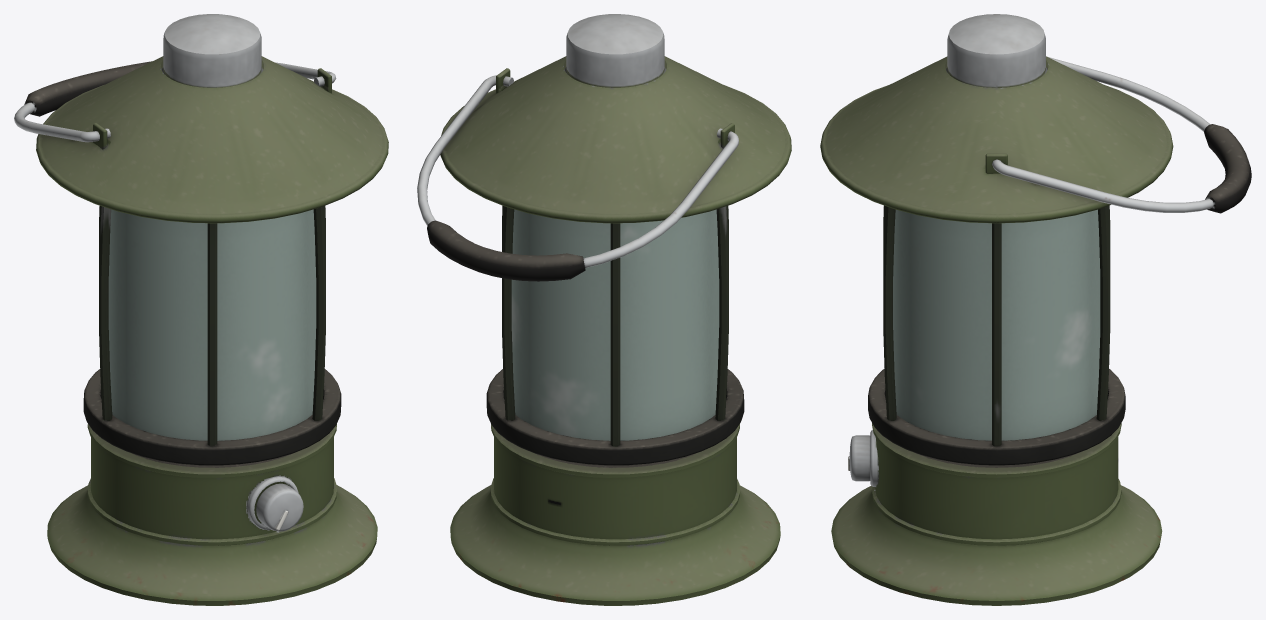
File: CampLantern.fbx
The picture shows the model from 3 angles, left to right: view 1: azimuth 30°, elevation 25°; view 2: azimuth 150°, elevation 25°; view 3: azimuth 270°, elevation 25°; orthographic projection.
Parts seen in each view (by area): view 1: CampLantern_Body, CampLantern_Globe, CampLantern_Bail, CampLantern_Knob; view 2: CampLantern_Body, CampLantern_Globe, CampLantern_Bail; view 3: CampLantern_Body, CampLantern_Globe, CampLantern_Bail, CampLantern_Knob.
Part boxes in pixels (left/top/right/bottom): CampLantern_Body: left=36, top=14, right=388, bottom=605; CampLantern_Globe: left=108, top=209, right=316, bottom=440; CampLantern_Bail: left=14, top=61, right=336, bottom=142; CampLantern_Knob: left=256, top=483, right=303, bottom=531; CampLantern_Body: left=440, top=14, right=791, bottom=605; CampLantern_Globe: left=511, top=209, right=719, bottom=440; CampLantern_Bail: left=417, top=75, right=738, bottom=281; CampLantern_Body: left=820, top=14, right=1173, bottom=605; CampLantern_Globe: left=893, top=209, right=1100, bottom=440; CampLantern_Bail: left=992, top=57, right=1251, bottom=213; CampLantern_Knob: left=848, top=435, right=870, bottom=481.
Size of the model in its own units: 0.444 by 0.714 by 0.5426.
2 materials, 2 textured.
